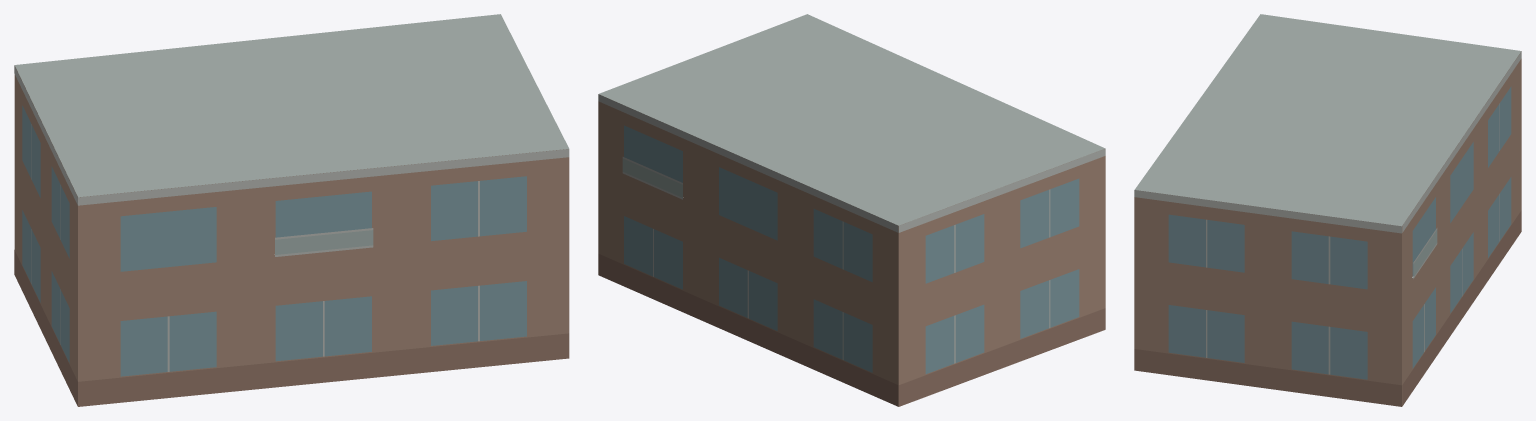
The model's file is survey-upis-32869319.glb.
The picture shows the model from 3 angles, left to right: view 1: azimuth 30°, elevation 25°; view 2: azimuth 150°, elevation 25°; view 3: azimuth 270°, elevation 25°; orthographic projection. The views are drawn at different scales.
Visible parts, largest first — view 1: survey-upis-32869319.tmp; view 2: survey-upis-32869319.tmp; view 3: survey-upis-32869319.tmp.
Part boxes in pixels (left/top/right/bottom): survey-upis-32869319.tmp: left=14, top=14, right=569, bottom=406; survey-upis-32869319.tmp: left=598, top=14, right=1105, bottom=406; survey-upis-32869319.tmp: left=1134, top=14, right=1521, bottom=406.
Size of the model in its own units: 15.39 by 6.1 by 11.86.
